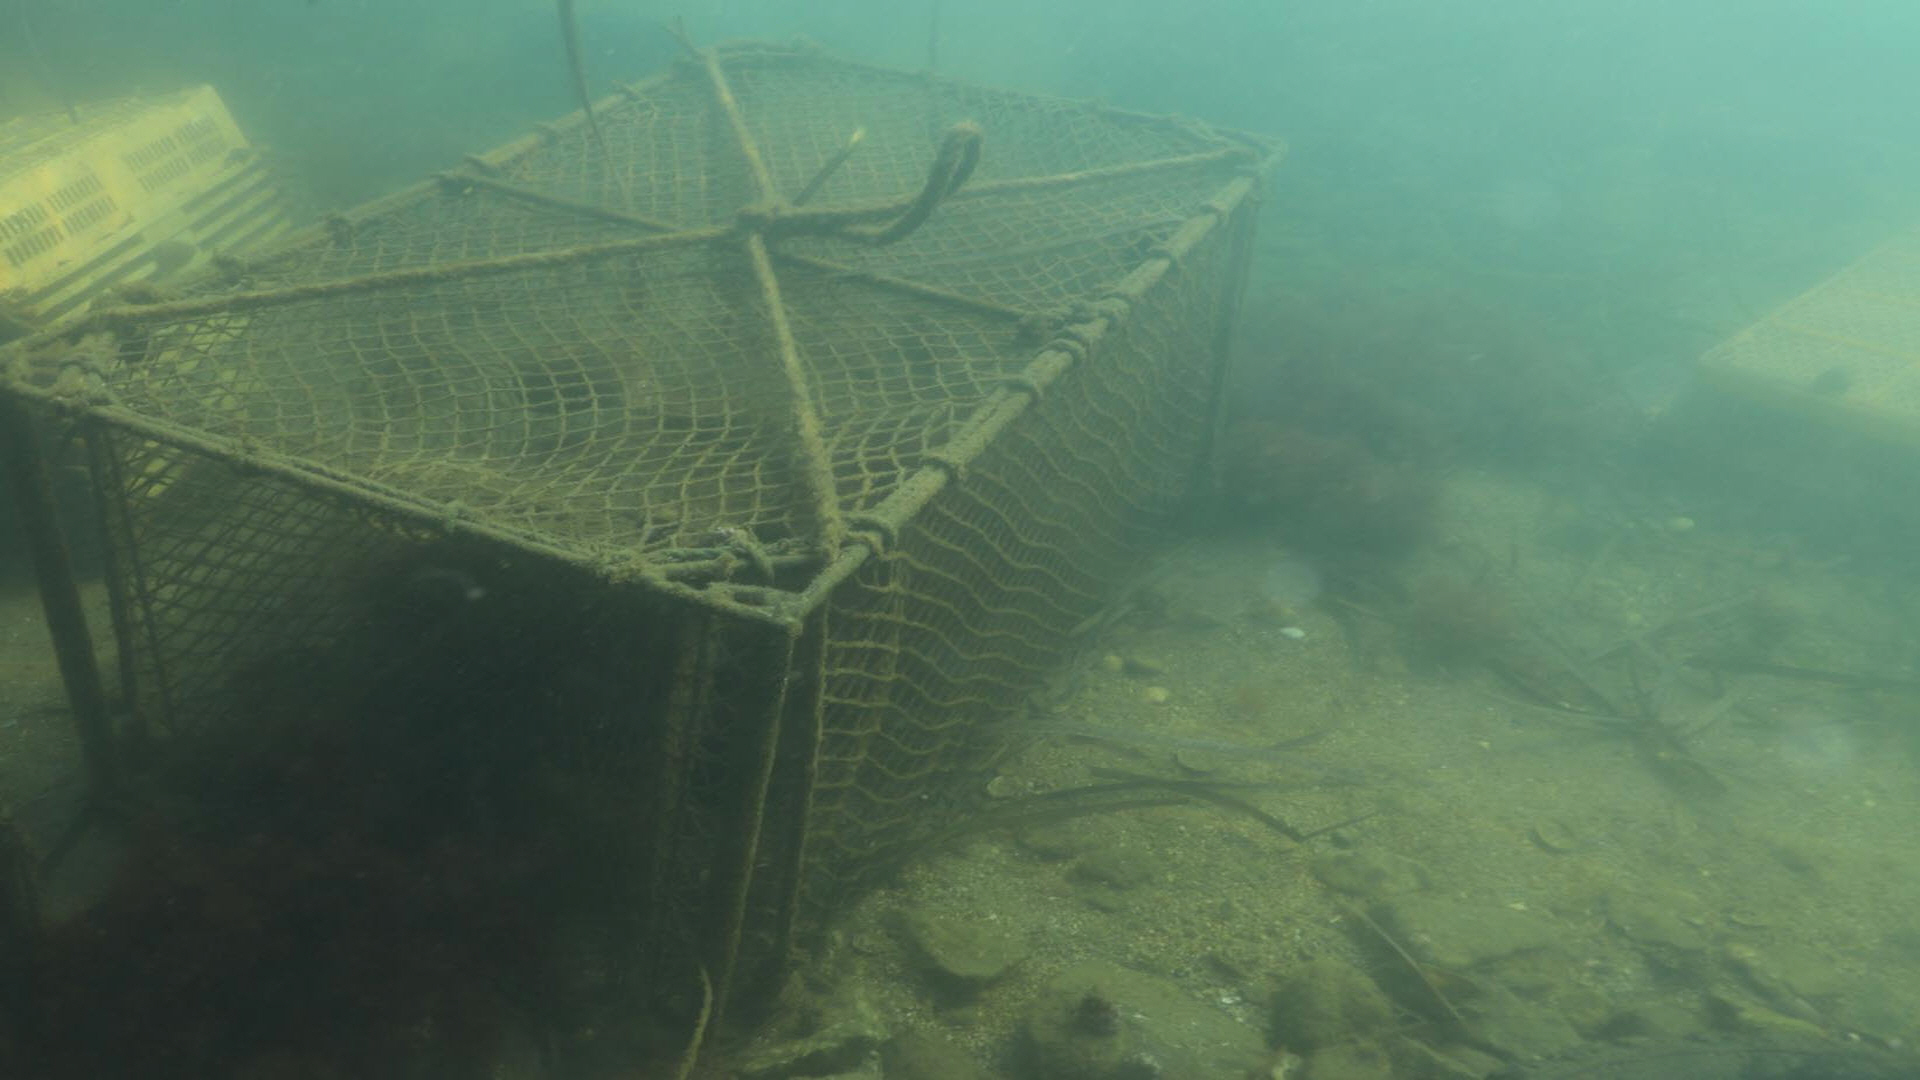bundle of ropes: (738, 117, 982, 248)
rectangular fish trap: (3, 37, 1291, 1048)
